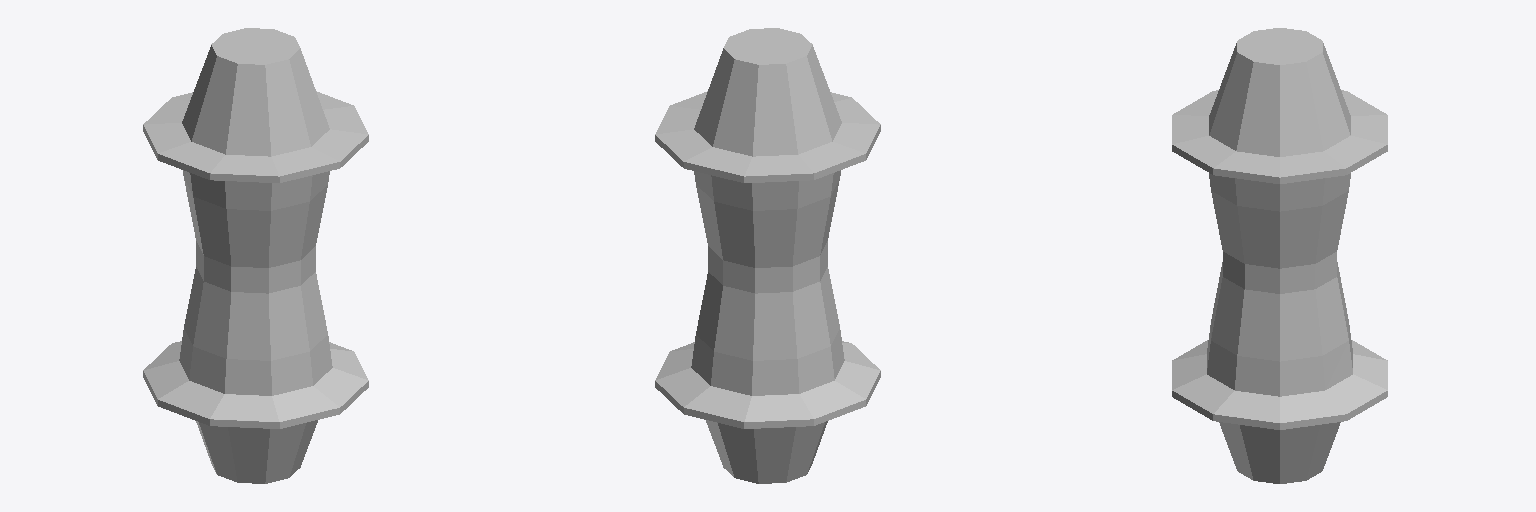
File: origHub.obj
3 renders of one model, left to right at view 1: azimuth 30°, elevation 25°; view 2: azimuth 150°, elevation 25°; view 3: azimuth 270°, elevation 25°, orthographic.
Parts seen in each view (by area): view 1: Default; view 2: Default; view 3: Default.
Part boxes in pixels (x1,y1,x2,y2): Default: (143, 28, 368, 483); Default: (655, 28, 880, 483); Default: (1172, 28, 1387, 483).
Bounding box in the file's own units: 0.0523 × 0.1066 × 0.0498.